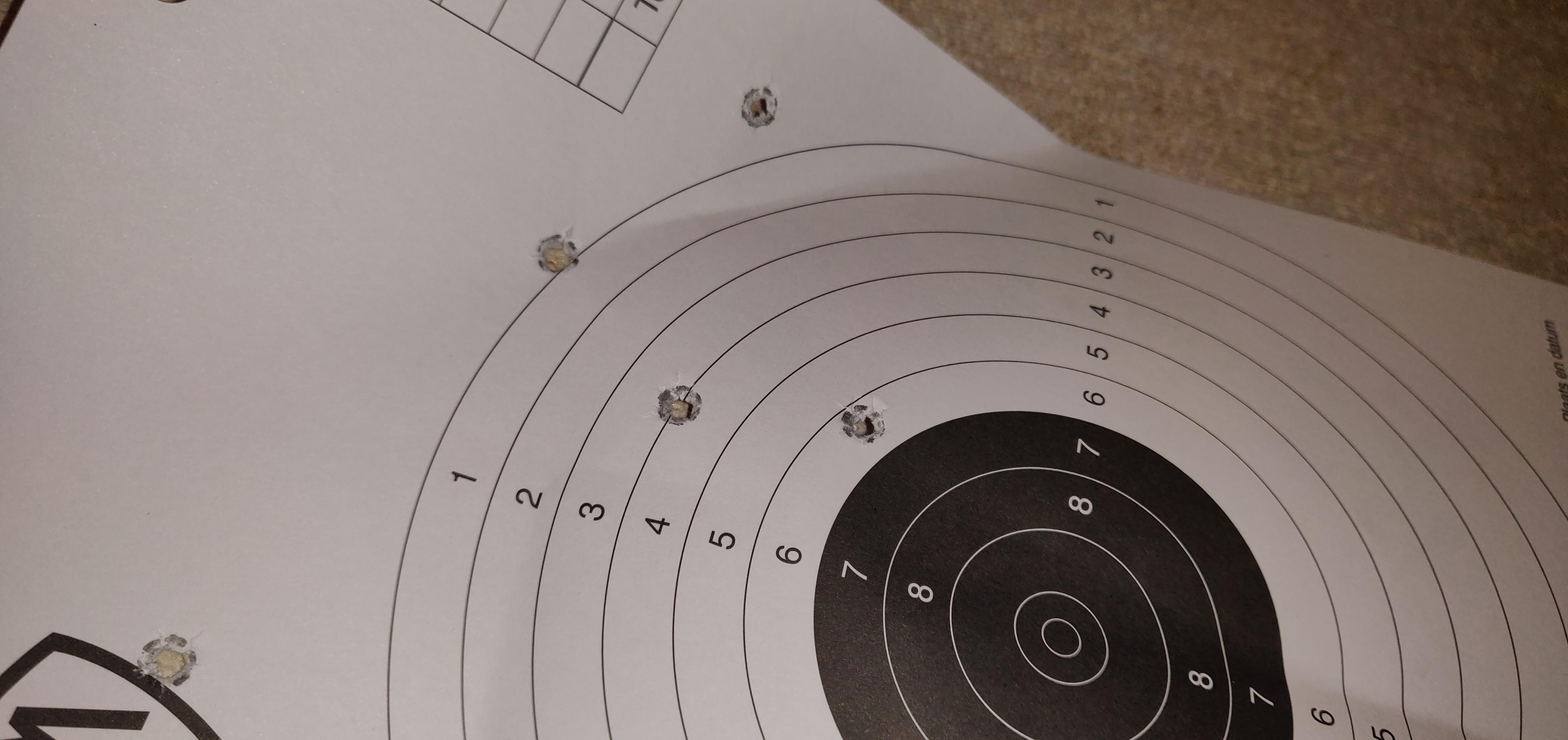hole: (98, 65, 230, 95), (983, 248, 1084, 274), (626, 395, 728, 419), (662, 309, 762, 331), (1294, 348, 1391, 368)
